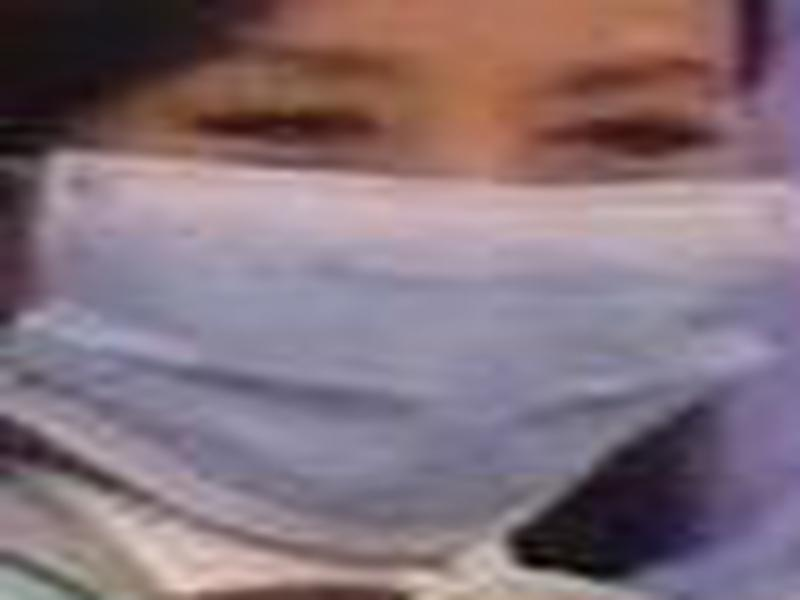with_mask: (1, 1, 798, 565)
